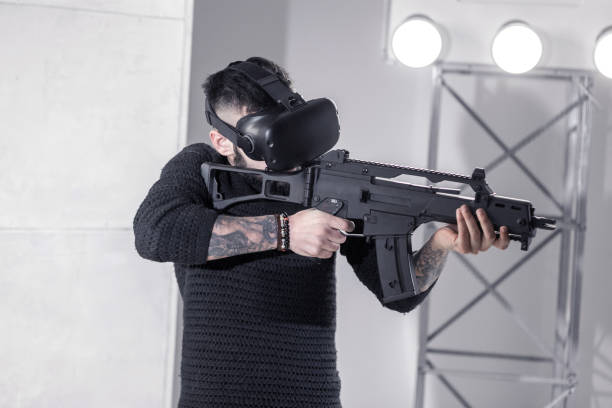gun: (210, 149, 552, 309)
